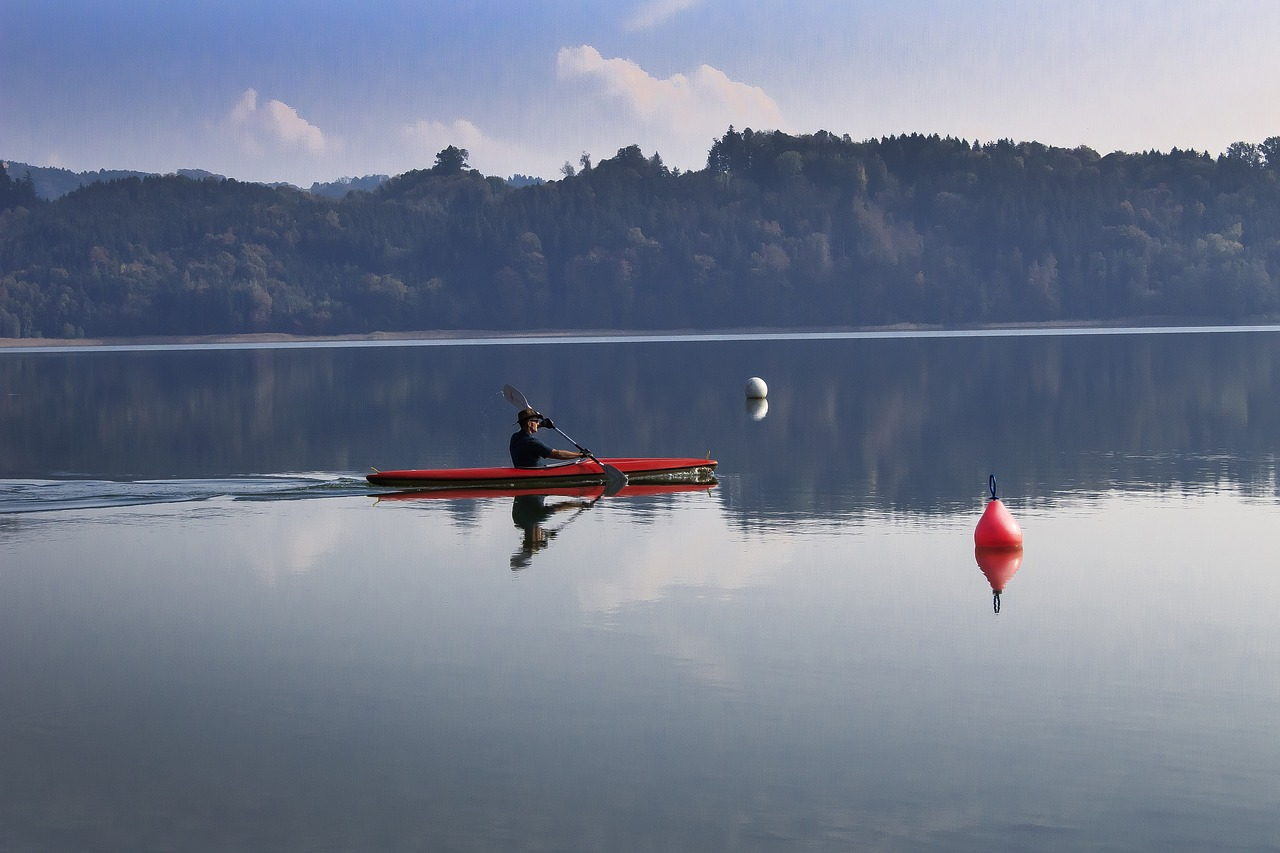kayak: (356, 450, 723, 490)
